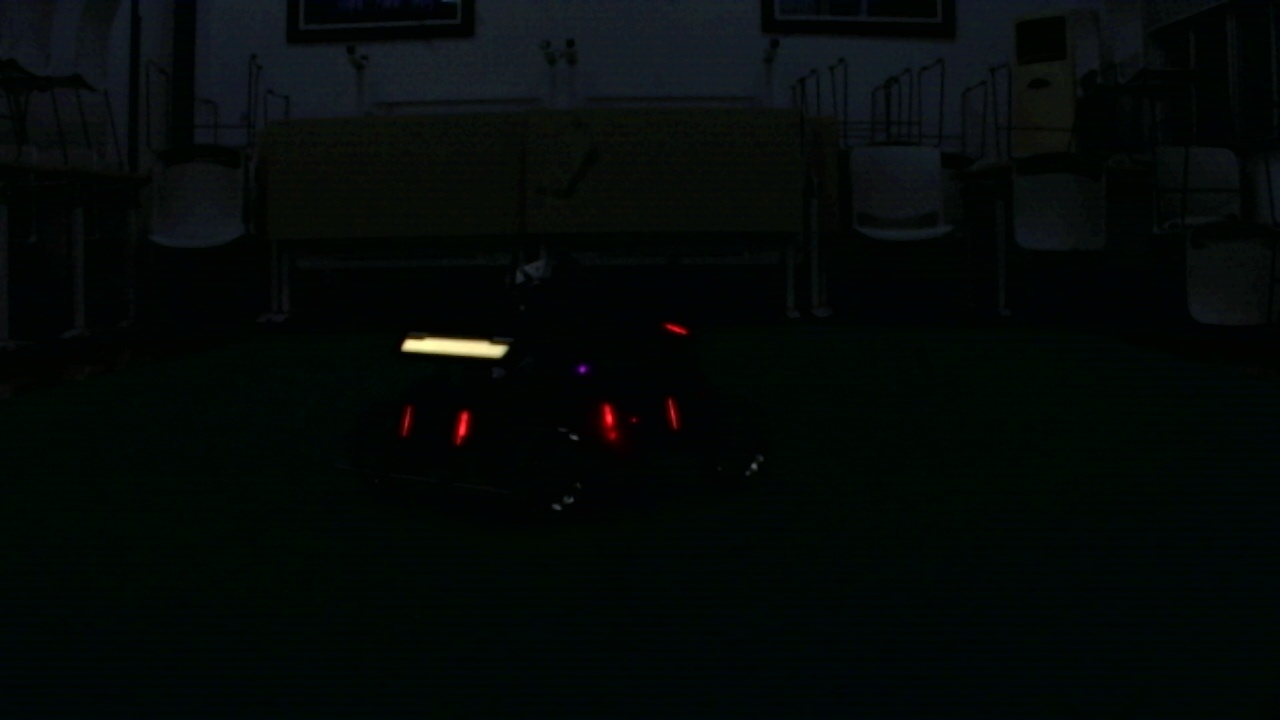lamp: (599, 406, 619, 439), (455, 407, 472, 444), (666, 396, 678, 431)
pair1: (600, 402, 678, 436)
